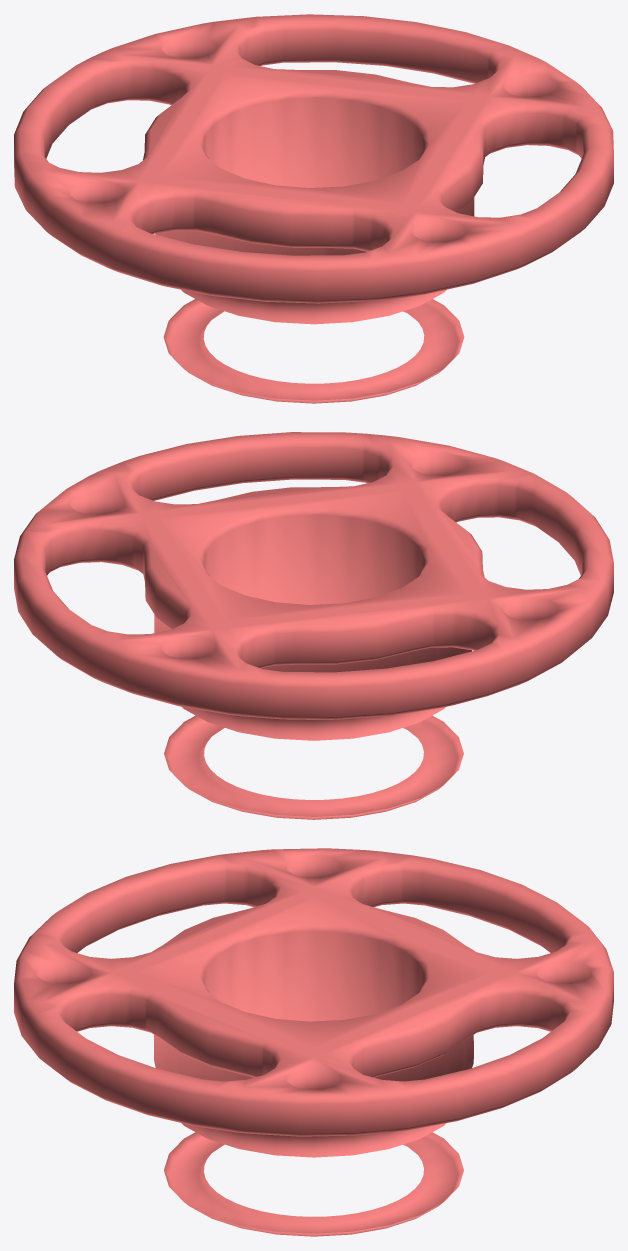
Rendered from solo12_hip_fe_hl_12.obj.
3 views of the same model, one above another, from view 1: azimuth 30°, elevation 25°; view 2: azimuth 150°, elevation 25°; view 3: azimuth 270°, elevation 25° (orthographic).
Size of the model in its own units: 0.03 by 0.0112 by 0.03.
